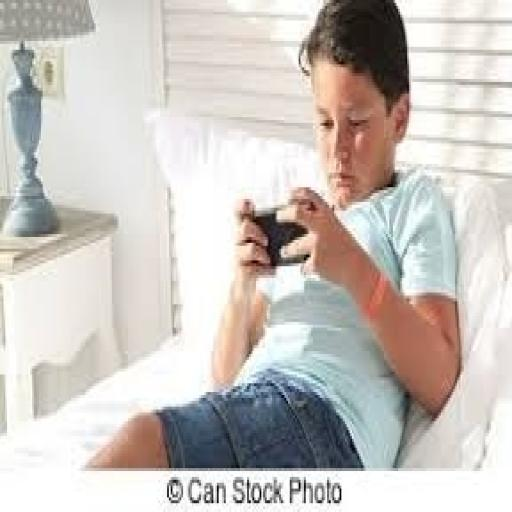texting: (82, 0, 464, 468)
